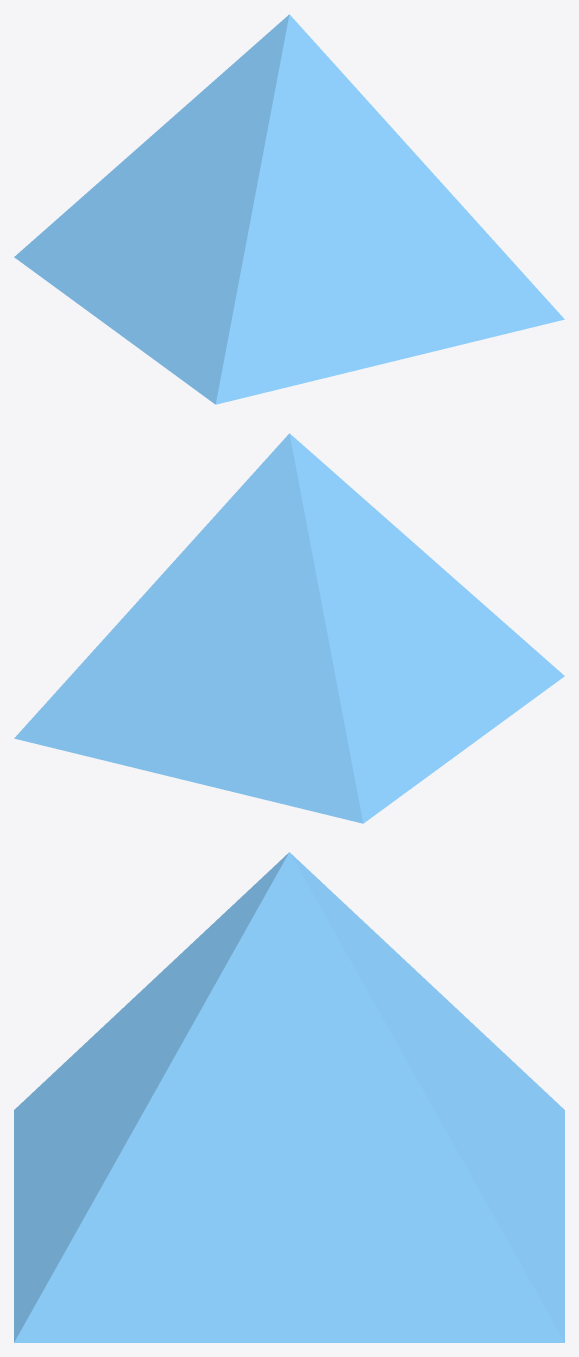
File: threejson_bobbing_pyramid.gltf
The picture shows the model from 3 angles, top to bottom: view 1: azimuth 30°, elevation 25°; view 2: azimuth 150°, elevation 25°; view 3: azimuth 270°, elevation 25°; orthographic projection. The views are drawn at different scales.
Visible parts, largest first — view 1: ThreeJSONPyramidNode; view 2: ThreeJSONPyramidNode; view 3: ThreeJSONPyramidNode.
Part boxes in pixels (bbox=[...]): ThreeJSONPyramidNode: bbox=[14, 14, 564, 404]; ThreeJSONPyramidNode: bbox=[14, 433, 564, 823]; ThreeJSONPyramidNode: bbox=[14, 852, 564, 1342].
Bounding box in the file's own units: 2 × 1.5 × 2.
